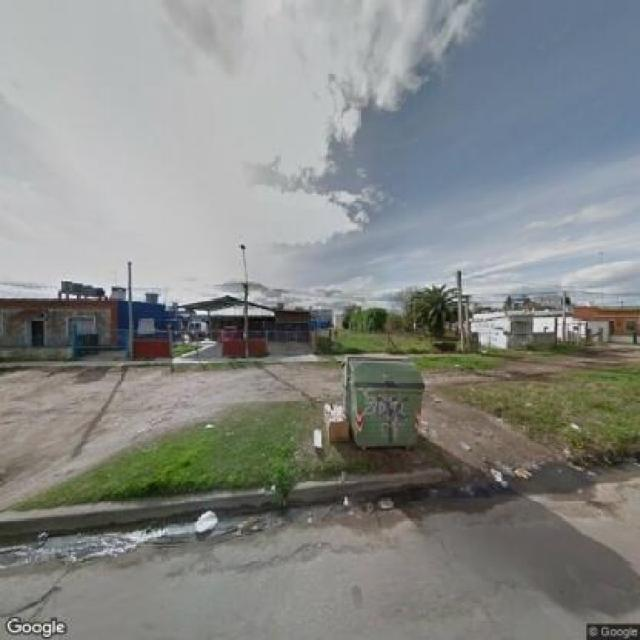garbage: (306, 395, 351, 457), (188, 506, 234, 544)
